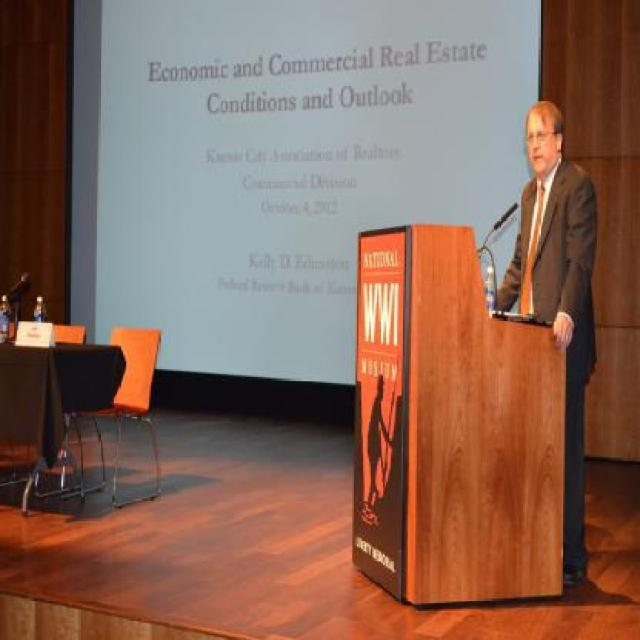Person: (466, 90, 583, 504)
